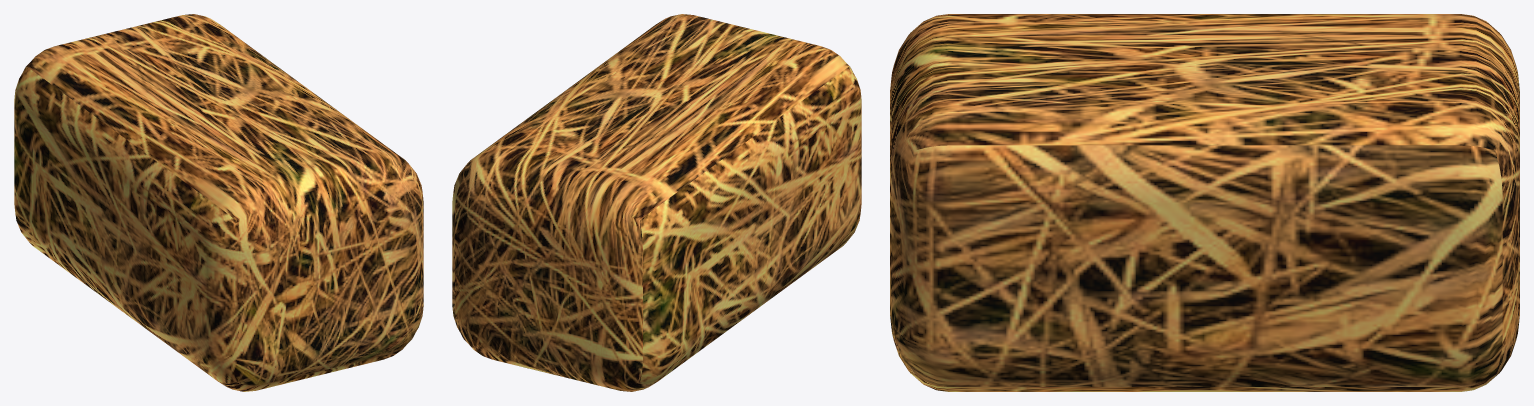
Rendered from Hay.fbx.
3 renders of one model, left to right at view 1: azimuth 30°, elevation 25°; view 2: azimuth 150°, elevation 25°; view 3: azimuth 270°, elevation 25°, orthographic. The views are drawn at different scales.
Visible parts, largest first — view 1: Hay; view 2: Hay; view 3: Hay.
Part boxes in pixels (x1,y1,x2,y2): Hay: (14, 14, 423, 391); Hay: (452, 14, 861, 391); Hay: (890, 14, 1519, 391).
Bounding box in the file's own units: 157 × 143 × 289.
